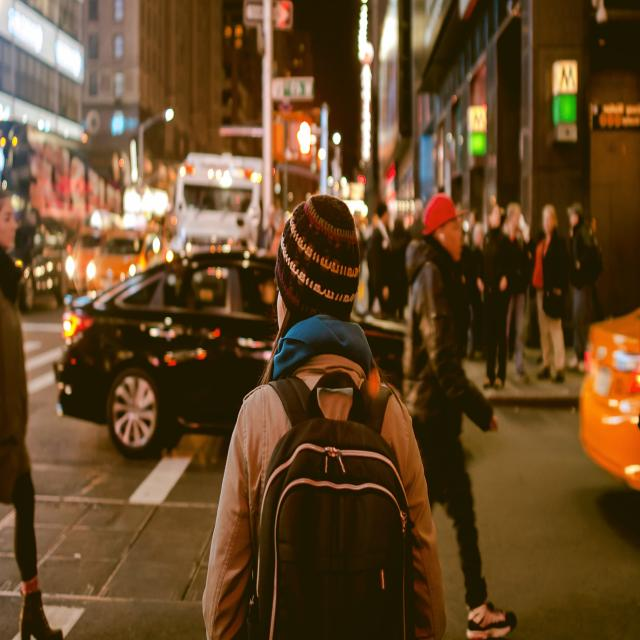adult: (201, 189, 441, 640), (407, 196, 517, 640), (476, 200, 514, 385), (535, 203, 564, 376), (566, 202, 594, 369)
